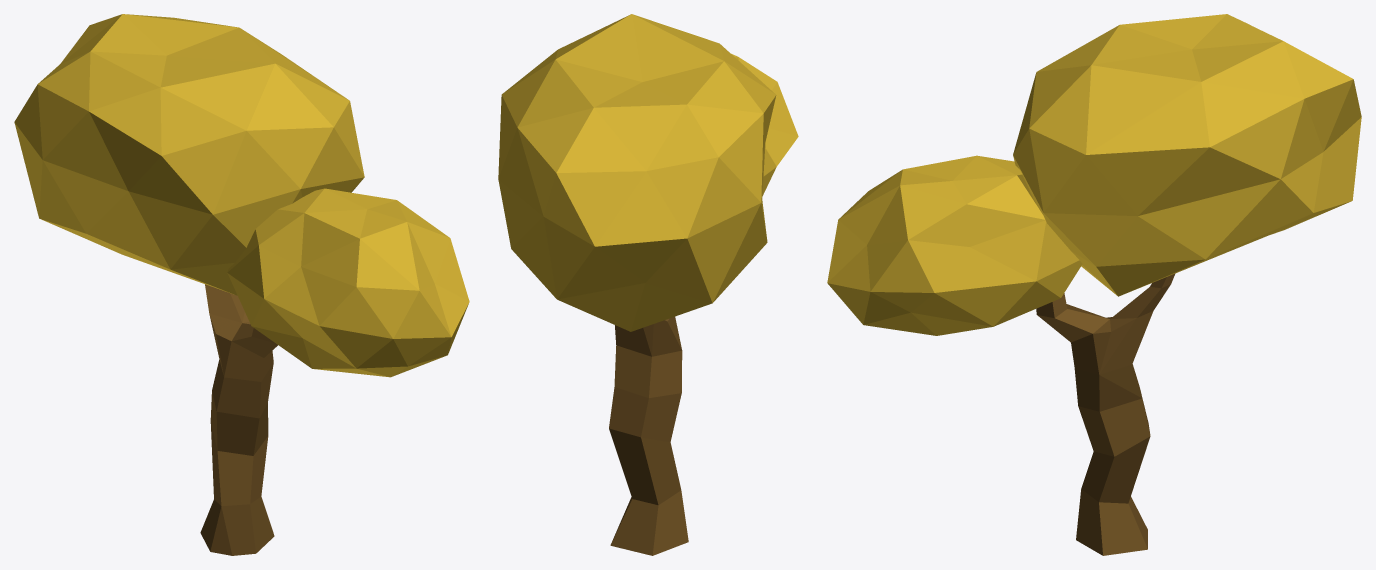
The model's file is co_Tree03_B.fbx.
The picture shows the model from 3 angles, left to right: view 1: azimuth 30°, elevation 25°; view 2: azimuth 150°, elevation 25°; view 3: azimuth 270°, elevation 25°; orthographic projection. The views are drawn at different scales.
Parts seen in each view (by area): view 1: Tree03_B_LOD0; view 2: Tree03_B_LOD0; view 3: Tree03_B_LOD0.
Part boxes in pixels (bbox=[...]): Tree03_B_LOD0: bbox=[14, 14, 469, 555]; Tree03_B_LOD0: bbox=[498, 14, 798, 555]; Tree03_B_LOD0: bbox=[827, 14, 1361, 555].
Size of what is drawn, in the model's own units: 10.42 by 17.17 by 17.03.
